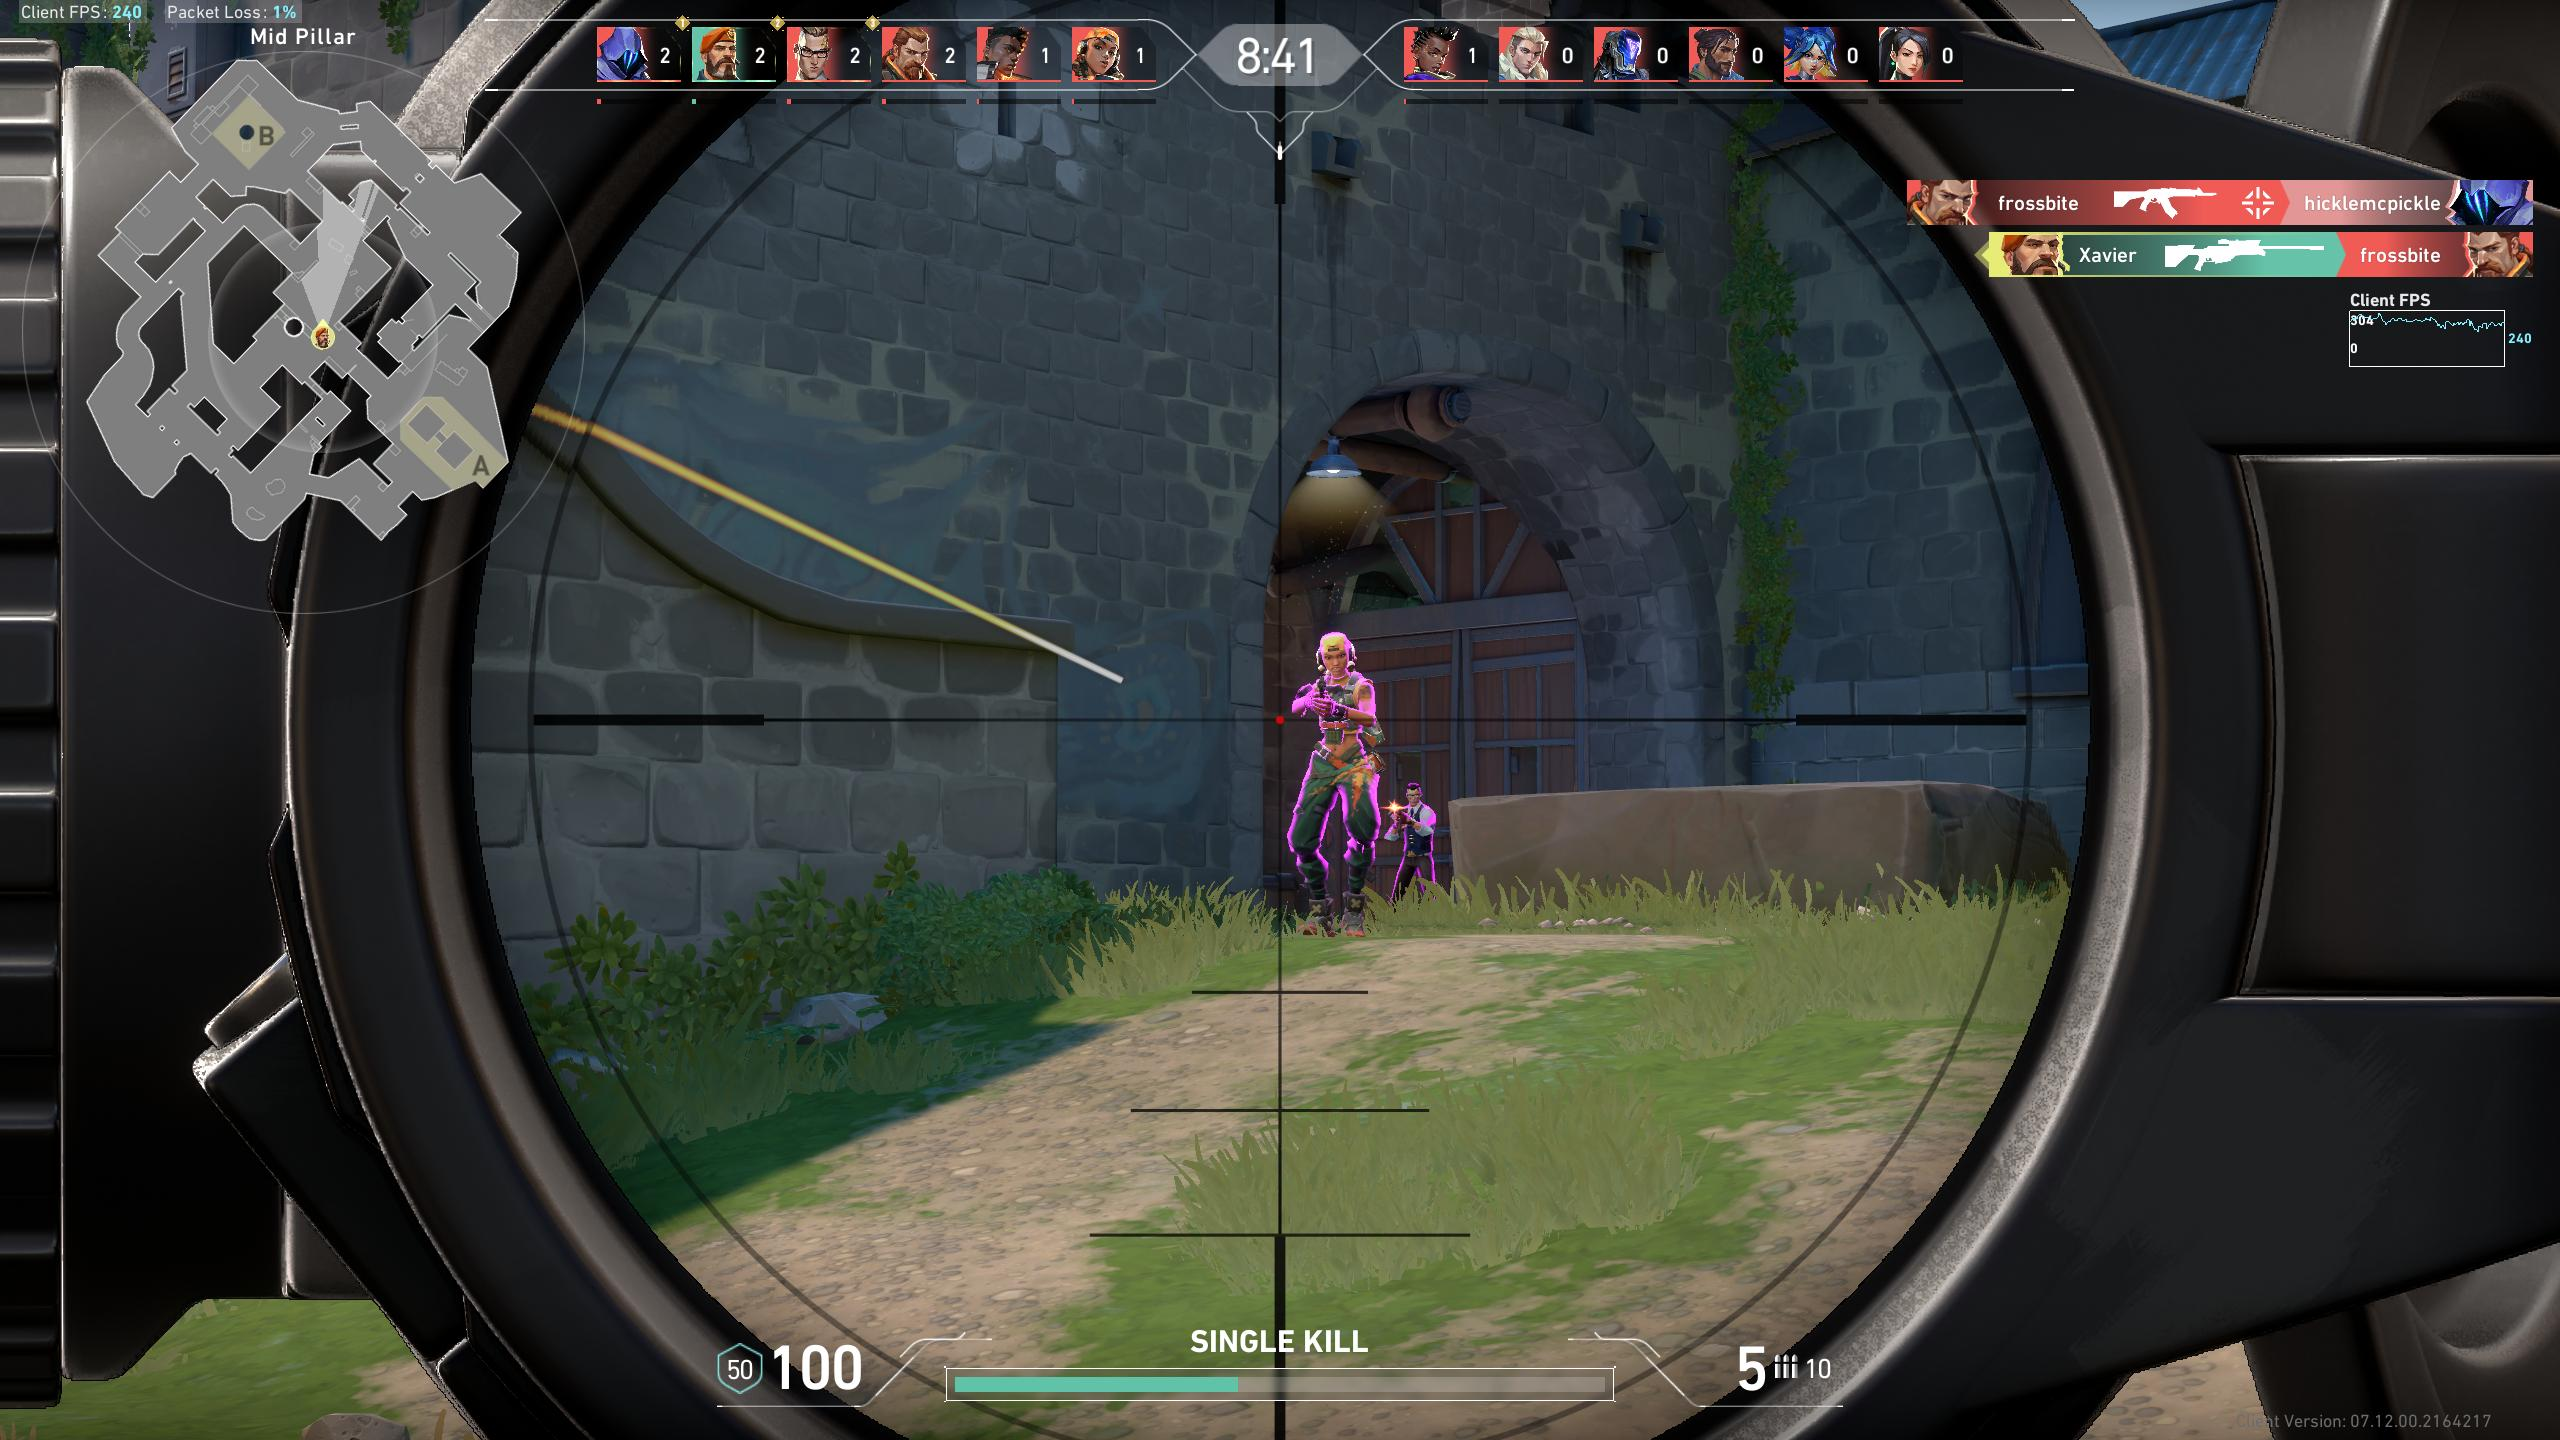enemyBody: (1313, 705, 1384, 784), (1398, 818, 1438, 867)
enemyHead: (1319, 628, 1359, 682), (1408, 786, 1421, 805)
